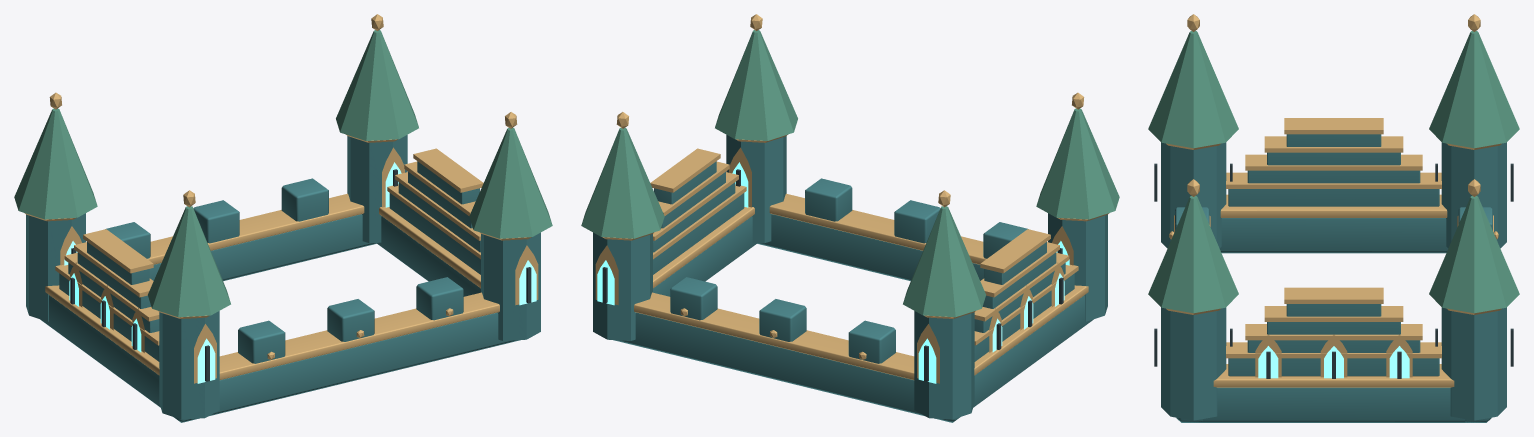
File: growth-crown.glb
3 renders of one model, left to right at view 1: azimuth 30°, elevation 25°; view 2: azimuth 150°, elevation 25°; view 3: azimuth 270°, elevation 25°, orthographic. The views are drawn at different scales.
Parts seen in each view (by area): view 1: growth-crown / Paint | growth Prussian petrol enamel, growth-crown / Copper | growth steep verdigris helm, growth-crown / Brass | growth warm machined fittings, growth-crown / Lamp | growth luminous mint glass, growth-crown / Structure | growth blue-black wrought iron; view 2: growth-crown / Paint | growth Prussian petrol enamel, growth-crown / Copper | growth steep verdigris helm, growth-crown / Brass | growth warm machined fittings, growth-crown / Lamp | growth luminous mint glass, growth-crown / Structure | growth blue-black wrought iron; view 3: growth-crown / Paint | growth Prussian petrol enamel, growth-crown / Copper | growth steep verdigris helm, growth-crown / Brass | growth warm machined fittings, growth-crown / Lamp | growth luminous mint glass, growth-crown / Structure | growth blue-black wrought iron.
Boxes of the visible parts, bbox=[...] form: growth-crown / Paint | growth Prussian petrol enamel: bbox=[26, 135, 540, 422]; growth-crown / Copper | growth steep verdigris helm: bbox=[14, 30, 552, 317]; growth-crown / Brass | growth warm machined fittings: bbox=[24, 14, 538, 383]; growth-crown / Lamp | growth luminous mint glass: bbox=[64, 162, 536, 383]; growth-crown / Structure | growth blue-black wrought iron: bbox=[70, 169, 531, 381]; growth-crown / Paint | growth Prussian petrol enamel: bbox=[593, 135, 1107, 422]; growth-crown / Copper | growth steep verdigris helm: bbox=[581, 30, 1119, 317]; growth-crown / Brass | growth warm machined fittings: bbox=[595, 14, 1109, 383]; growth-crown / Lamp | growth luminous mint glass: bbox=[597, 162, 1069, 383]; growth-crown / Structure | growth blue-black wrought iron: bbox=[602, 169, 1063, 381]; growth-crown / Paint | growth Prussian petrol enamel: bbox=[1161, 134, 1506, 422]; growth-crown / Copper | growth steep verdigris helm: bbox=[1148, 31, 1519, 313]; growth-crown / Brass | growth warm machined fittings: bbox=[1166, 14, 1501, 387]; growth-crown / Lamp | growth luminous mint glass: bbox=[1258, 346, 1409, 378]; growth-crown / Structure | growth blue-black wrought iron: bbox=[1154, 163, 1513, 378].
Bounding box in the file's own units: 3.6 × 1.96 × 2.78.
